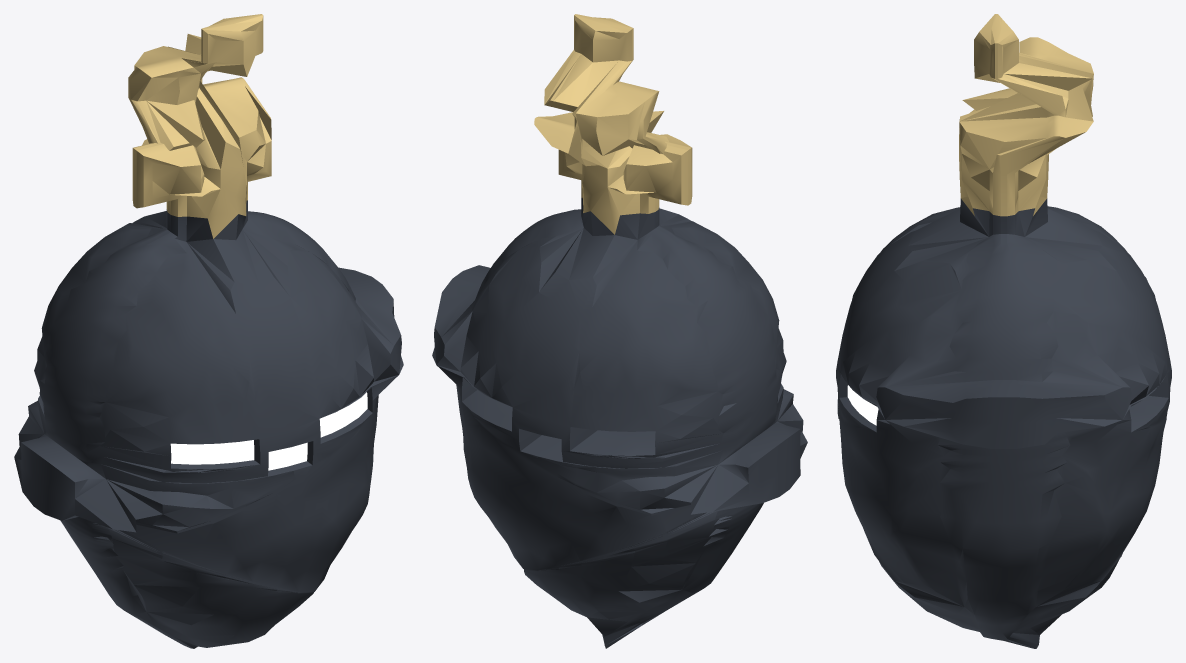
Rendered from glitch.glb.
3 views of the same model, side by side, from view 1: azimuth 30°, elevation 25°; view 2: azimuth 150°, elevation 25°; view 3: azimuth 270°, elevation 25° (orthographic). The views are drawn at different scales.
Visible parts, largest first — view 1: helm, trim, visor; view 2: helm, trim; view 3: helm, trim, visor.
Part boxes in pixels (x1,y1,x2,y2): helm: [14, 200, 403, 648]; trim: [128, 14, 271, 238]; visor: [170, 392, 367, 470]; helm: [432, 198, 807, 648]; trim: [534, 14, 692, 234]; helm: [836, 198, 1171, 648]; trim: [959, 14, 1093, 216]; visor: [847, 385, 878, 425].
Size of the model in its own units: 0.5835 by 1.04 by 0.5022.
